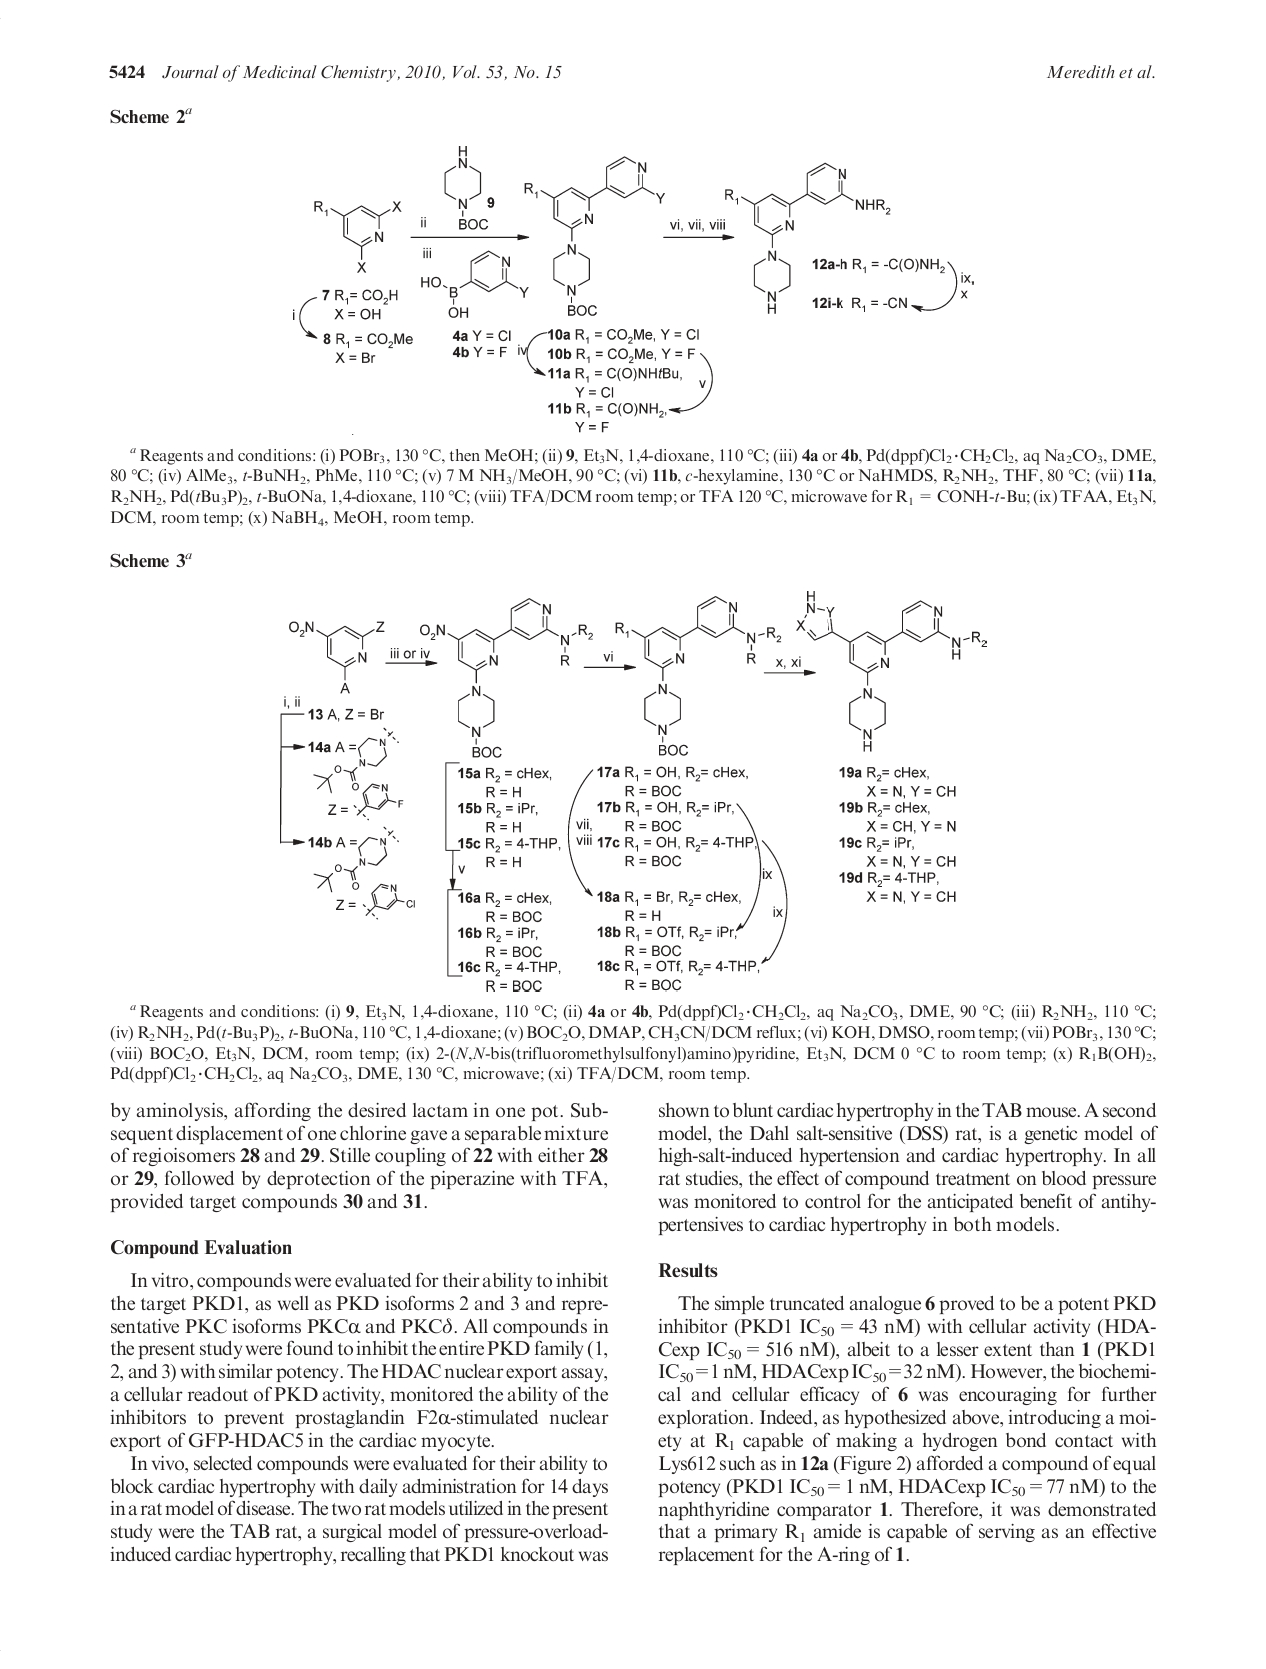exist_molecular: (795, 578, 993, 763), (601, 586, 785, 759), (418, 590, 597, 755), (715, 156, 895, 311), (520, 153, 672, 322), (289, 606, 395, 700), (309, 188, 410, 275), (313, 822, 406, 899), (313, 723, 403, 795), (431, 140, 497, 235), (348, 778, 410, 825), (360, 880, 414, 926)
